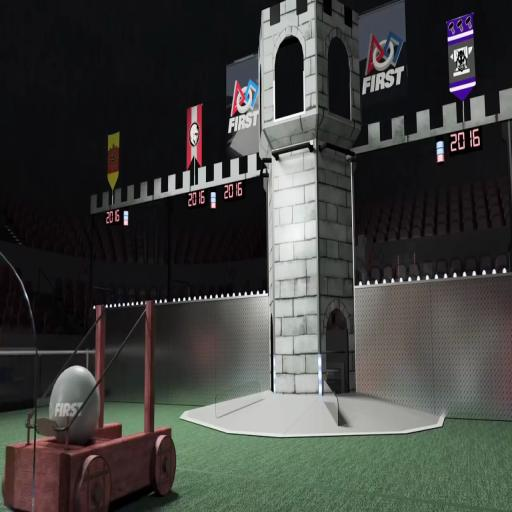robot: (6, 297, 180, 511)
